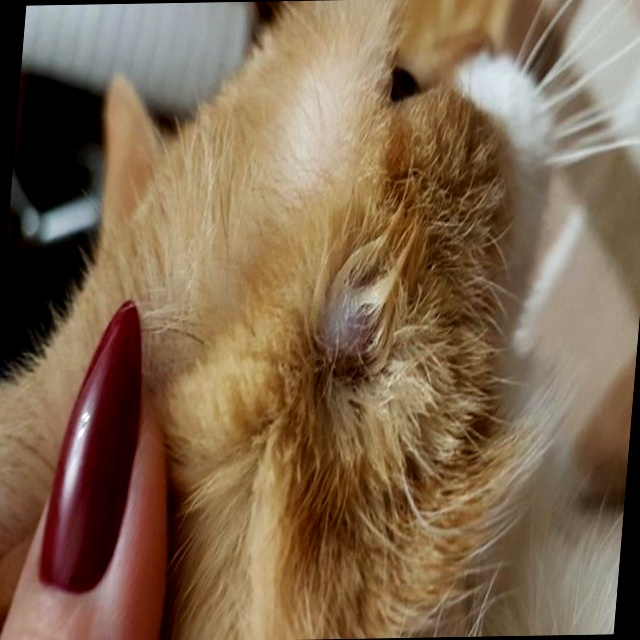lump_and_bump: (323, 276, 384, 345)
